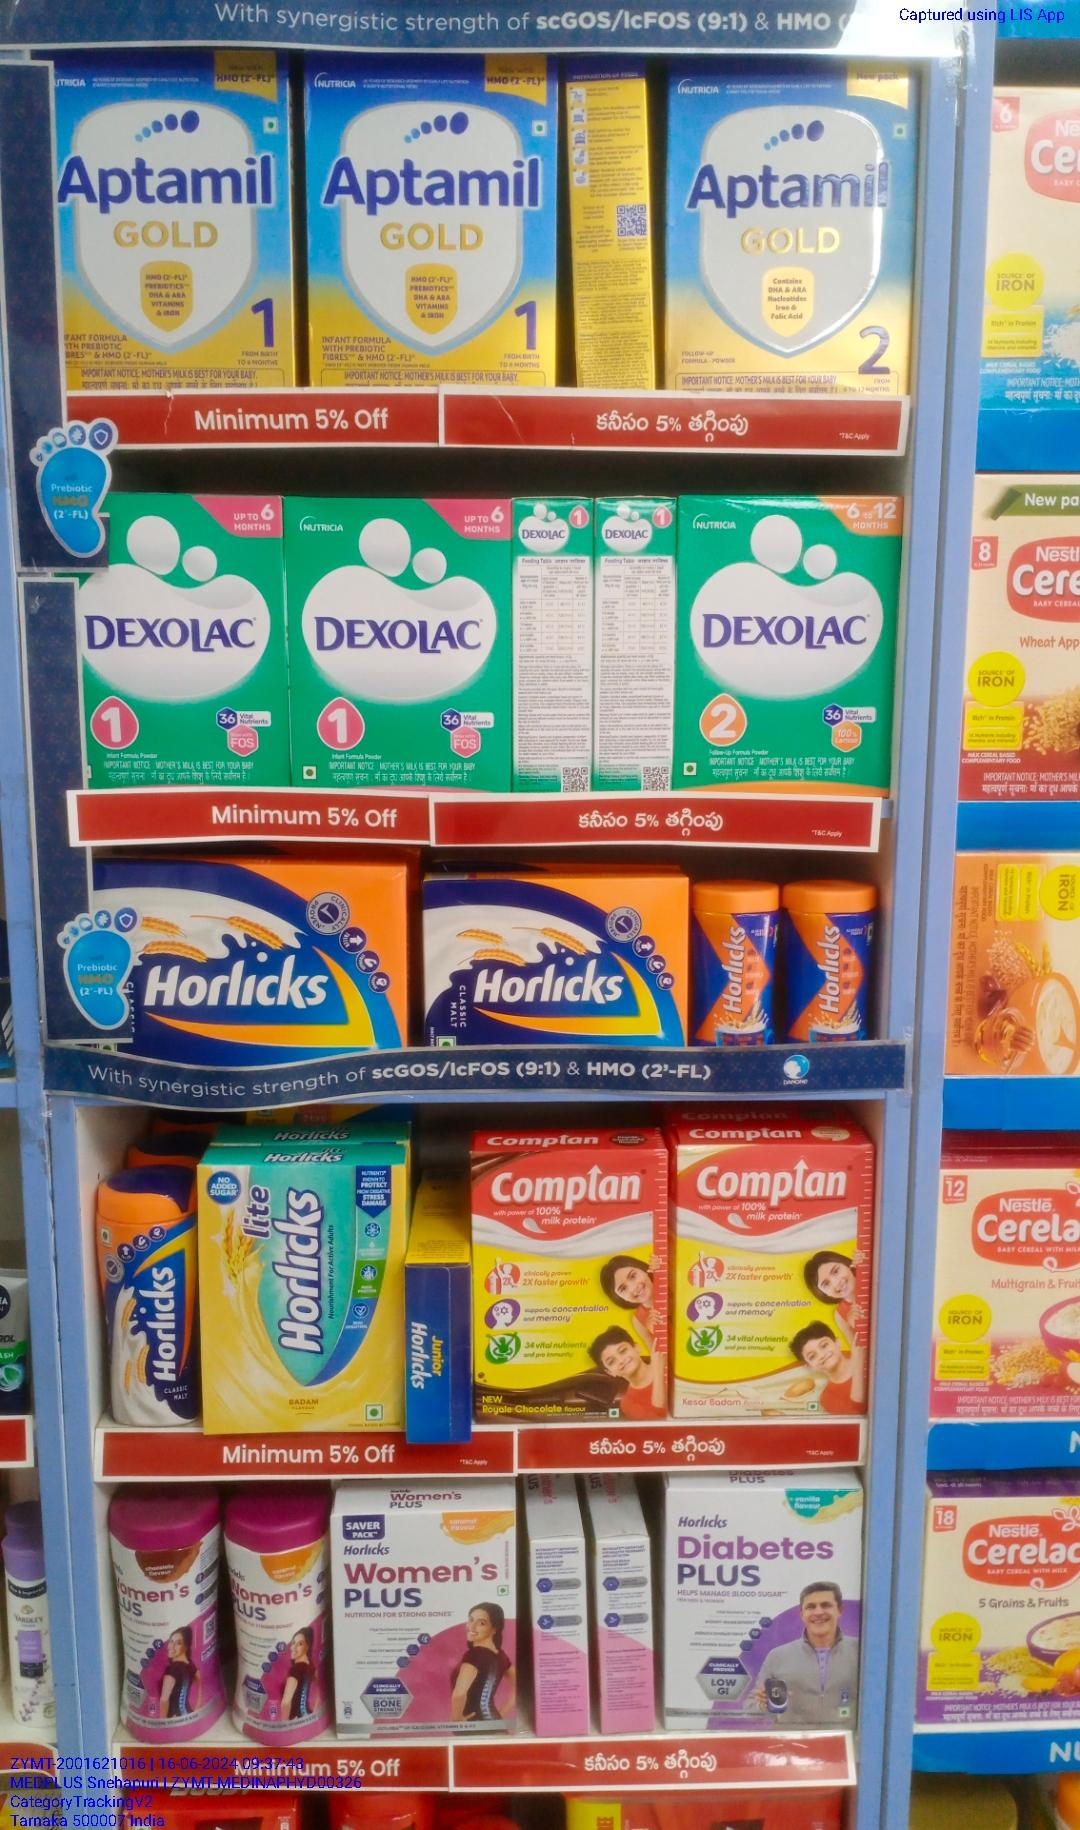HORLICK_CLASSIC_MALT_200_G_JAR: (780, 884, 872, 1044), (696, 887, 774, 1045)
HORLICK_CLASSIC_MALT_500_G_JAR: (98, 1177, 194, 1426)
